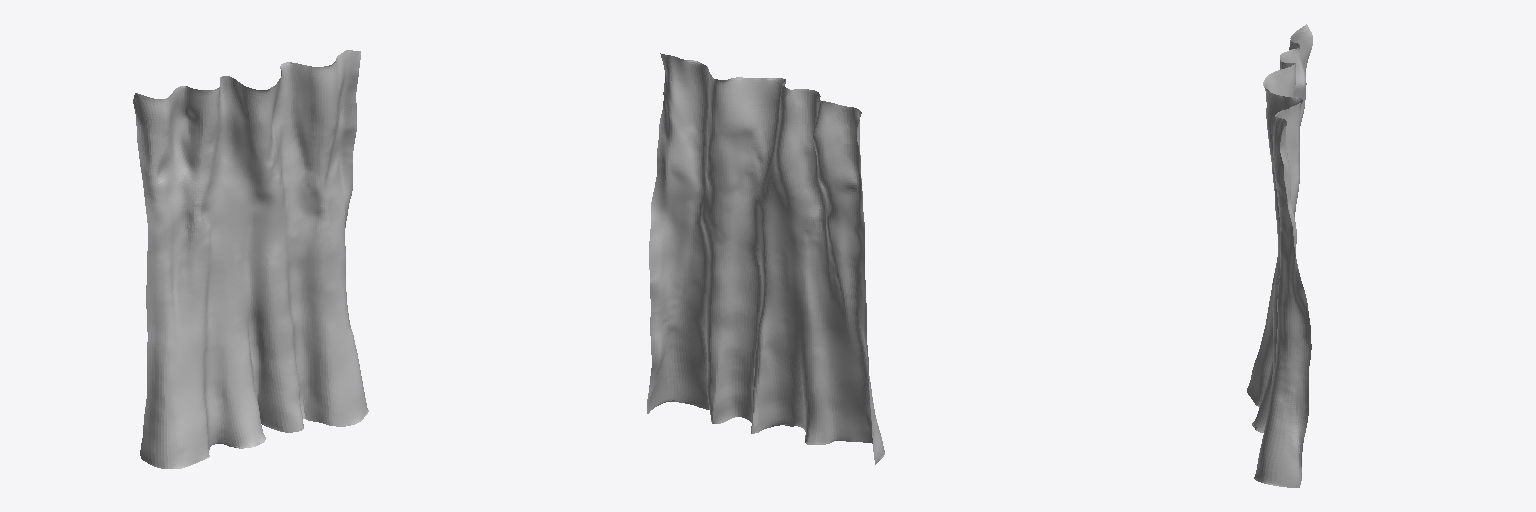
Rendered from SM_Curtain_highpoly_02_5.OBJ.
3 renders of one model, left to right at view 1: azimuth 30°, elevation 25°; view 2: azimuth 150°, elevation 25°; view 3: azimuth 270°, elevation 25°, orthographic.
Visible parts, largest first — view 1: Group1; view 2: Group1; view 3: Group1.
Part boxes in pixels (left/top/right/bottom): Group1: left=133, top=50, right=368, bottom=468; Group1: left=647, top=53, right=884, bottom=464; Group1: left=1247, top=24, right=1312, bottom=487.
Size of the model in its own units: 2.17 by 3.37 by 0.5605.